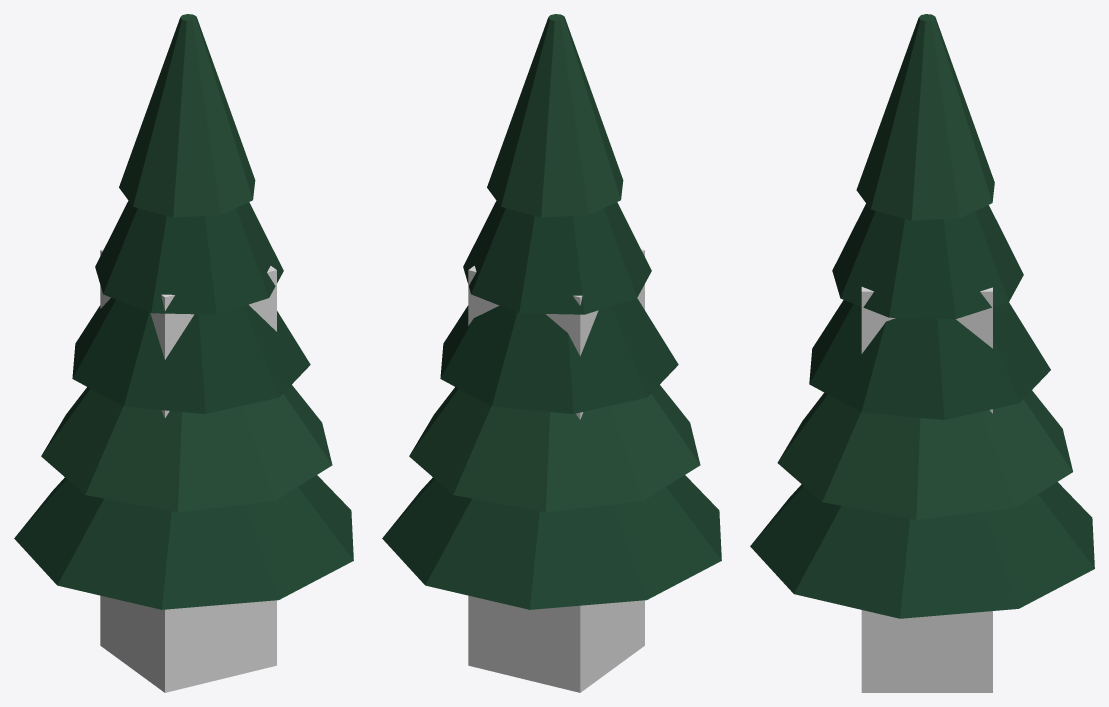
The model's file is abeto_nevado_3.glb.
3 views of the same model, side by side, from view 1: azimuth 30°, elevation 25°; view 2: azimuth 150°, elevation 25°; view 3: azimuth 270°, elevation 25° (orthographic).
Parts seen in each view (by area): view 1: abeto_nevado_3_Malla, COL_0; view 2: abeto_nevado_3_Malla, COL_0; view 3: abeto_nevado_3_Malla, COL_0.
Boxes of the visible parts, left/top/right/bottom form: abeto_nevado_3_Malla: left=14, top=14, right=353, bottom=609; COL_0: left=100, top=249, right=276, bottom=692; abeto_nevado_3_Malla: left=382, top=14, right=721, bottom=609; COL_0: left=468, top=249, right=644, bottom=692; abeto_nevado_3_Malla: left=750, top=14, right=1094, bottom=618; COL_0: left=861, top=287, right=992, bottom=692.
Bounding box in the file's own units: 2.13 × 4.36 × 2.1.
